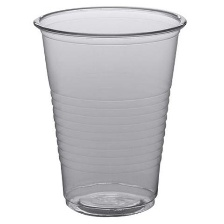glass: (28, 2, 192, 223)
